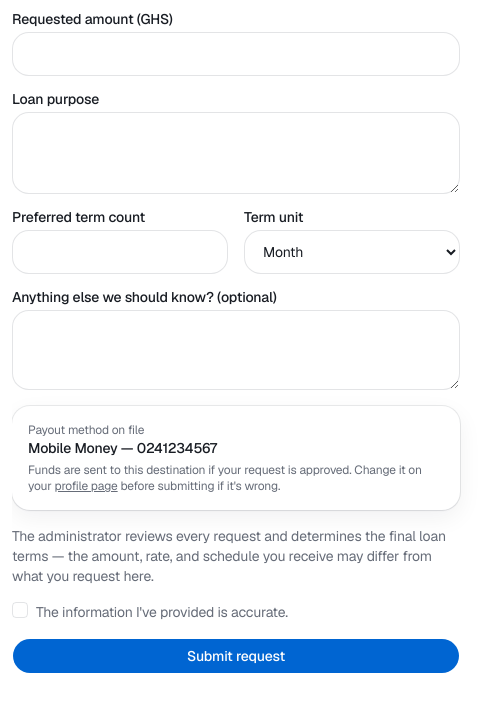
LoanRequestForm › requires the accuracy declaration before submitting
The width and height of the screenshot is (480, 726).
Type "2500" into the field labelled "Requested amount (GHS)" at x=236, y=54, box 12,32 -> 460,76
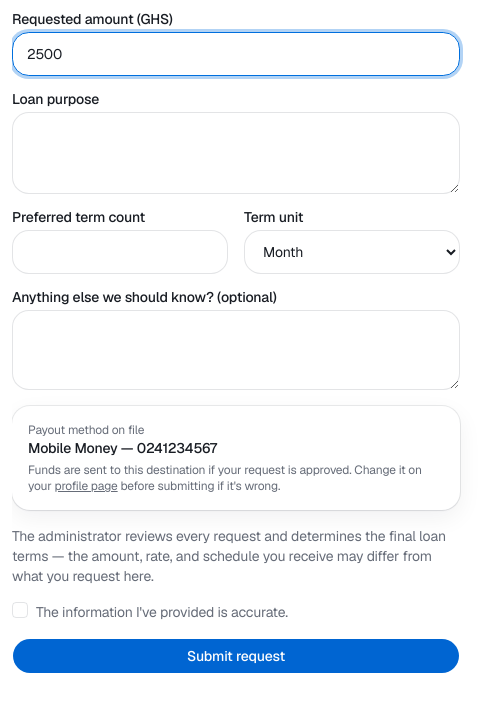
Type "School fees" into the text box labelled "Loan purpose" at x=236, y=153, box 12,112 -> 460,194
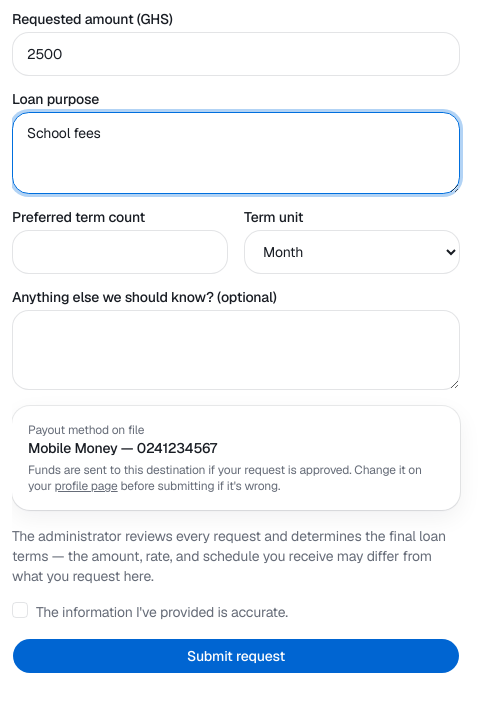
Click the button "Submit request" at x=236, y=656, box 12,638 -> 460,674
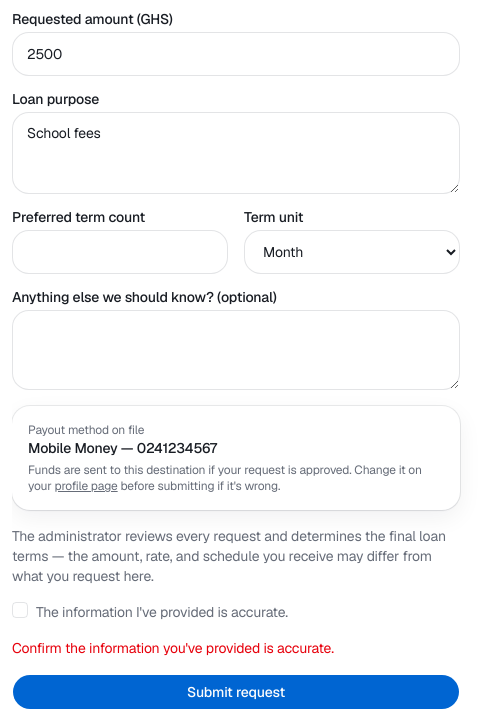
Expected: the text "Confirm the information you've provided is accurate." is shown, 12,639 -> 334,657
